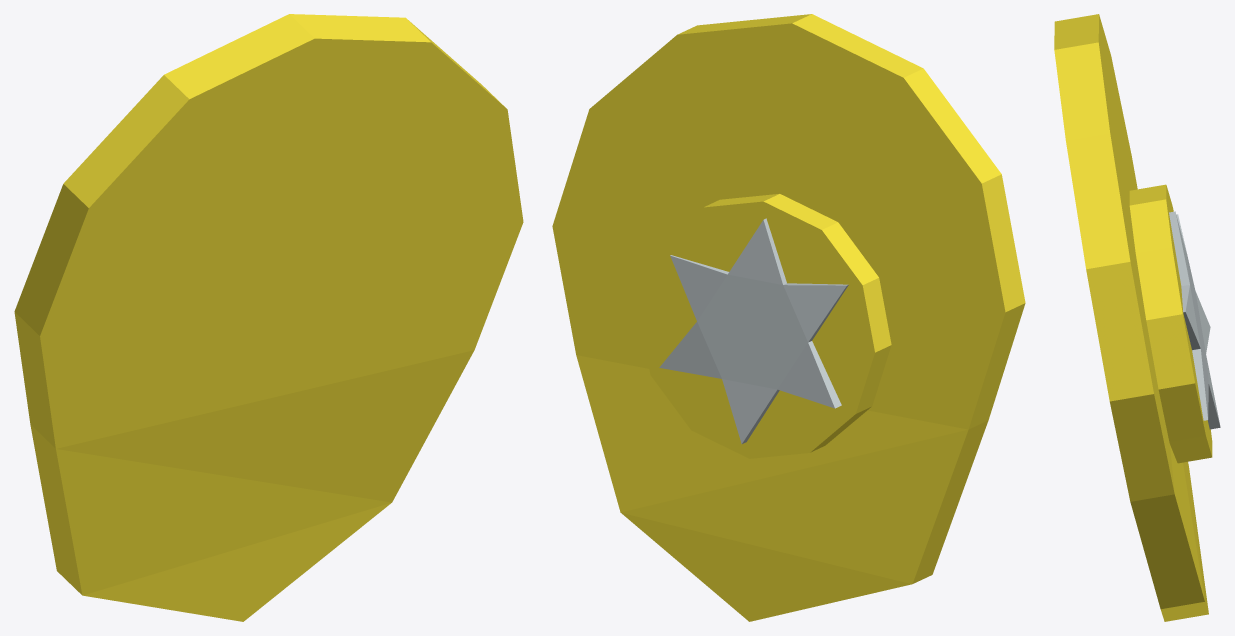
File: security-badge-by-casey-tumbers-dBIMTh3kMWU.glb
3 renders of one model, left to right at view 1: azimuth 30°, elevation 25°; view 2: azimuth 150°, elevation 25°; view 3: azimuth 270°, elevation 25°, orthographic. The views are drawn at different scales.
Parts seen in each view (by area): view 1: group1886624364; view 2: group1886624364; view 3: group1886624364.
Boxes of the visible parts, x1,y1,x2,y2 form: group1886624364: [14, 14, 523, 621]; group1886624364: [552, 14, 1025, 621]; group1886624364: [1054, 14, 1220, 621].
Size of the model in its own units: 0.123 by 0.1494 by 0.0385.
